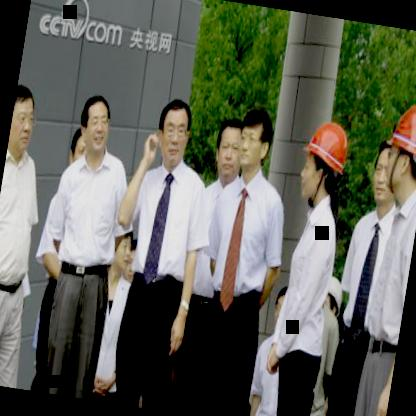head: (151, 93, 197, 170), (233, 98, 278, 176), (74, 88, 117, 160), (364, 138, 403, 217), (6, 78, 42, 160), (208, 112, 247, 184), (65, 124, 92, 176)
helmet: (294, 114, 353, 207), (379, 99, 416, 201), (313, 268, 348, 330), (104, 218, 141, 276)
